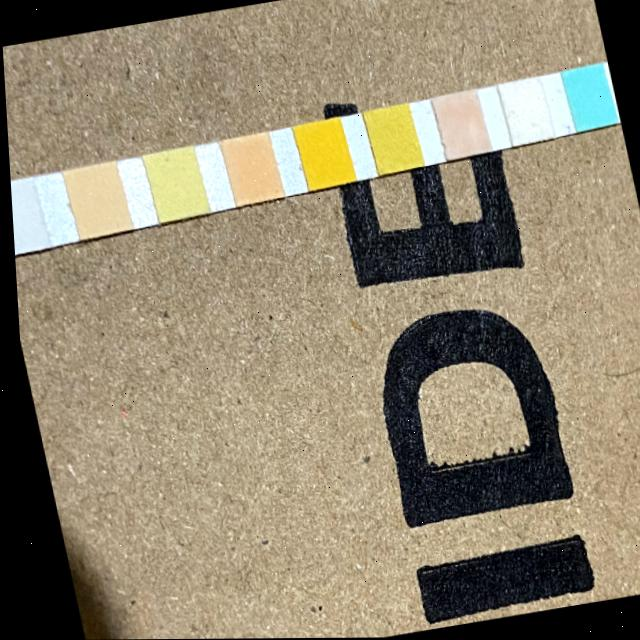Bilirubin: (498, 81, 549, 144)
Blood: (294, 120, 352, 188)
Glucose: (561, 65, 613, 131)
Ketone: (432, 93, 486, 158)
Nitrite: (8, 180, 43, 256)
Protein: (142, 145, 206, 221)
SpGravity: (364, 106, 418, 171)
Urobilinogen: (63, 163, 128, 237)
pH: (220, 135, 279, 203)
